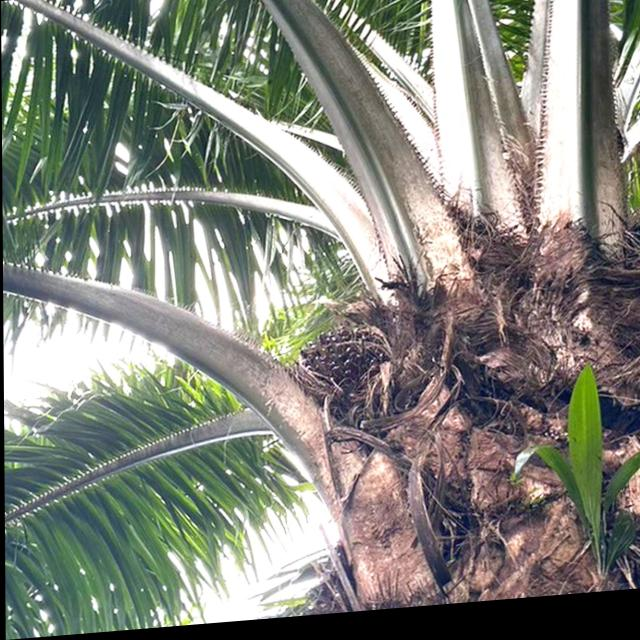almost: (279, 317, 400, 430)
